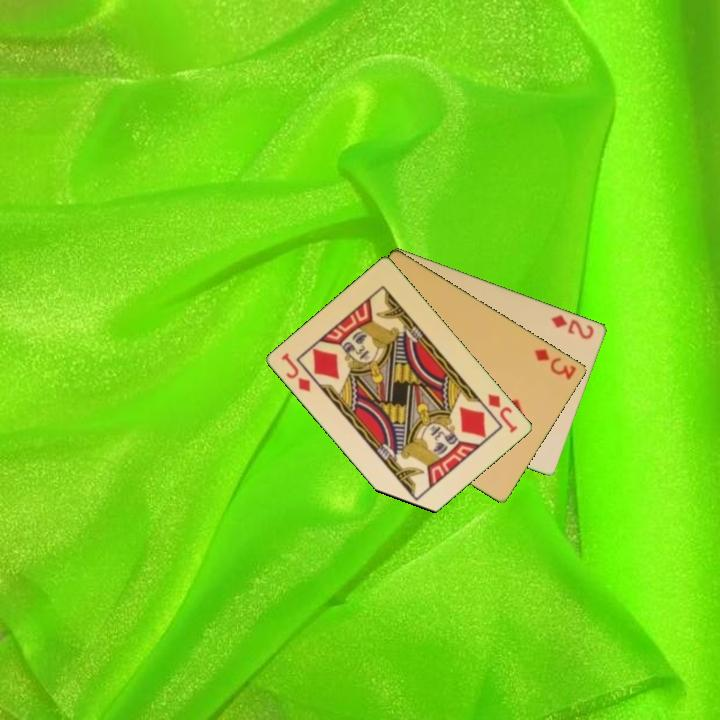2d: (548, 311, 597, 342)
3d: (531, 345, 579, 382)
Jd: (485, 390, 521, 436), (278, 349, 314, 395)
